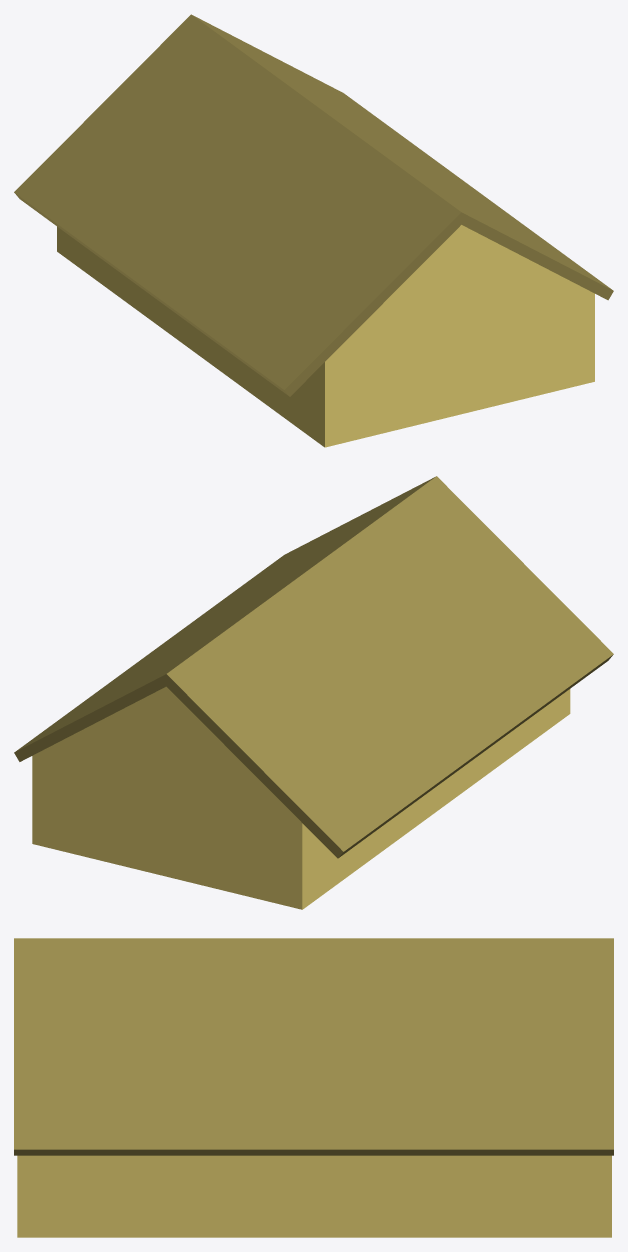
The model's file is result.glb.
3 views of the same model, one above another, from view 1: azimuth 30°, elevation 25°; view 2: azimuth 150°, elevation 25°; view 3: azimuth 270°, elevation 25° (orthographic). The views are drawn at different scales.
Parts seen in each view (by area): view 1: 9945c3a0-05b9-4f45-a9d6-b83e67051d95__undefined (×2), d8979166-a9b7-4e8d-b1c5-08e5b6ae2c49__undefined; view 2: 9945c3a0-05b9-4f45-a9d6-b83e67051d95__undefined (×2), d8979166-a9b7-4e8d-b1c5-08e5b6ae2c49__undefined; view 3: 9945c3a0-05b9-4f45-a9d6-b83e67051d95__undefined, d8979166-a9b7-4e8d-b1c5-08e5b6ae2c49__undefined.
Part boxes in pixels (x1,y1,x2,y2): 9945c3a0-05b9-4f45-a9d6-b83e67051d95__undefined (×2): (14, 14, 613, 396); d8979166-a9b7-4e8d-b1c5-08e5b6ae2c49__undefined: (57, 225, 594, 447); 9945c3a0-05b9-4f45-a9d6-b83e67051d95__undefined (×2): (14, 476, 613, 858); d8979166-a9b7-4e8d-b1c5-08e5b6ae2c49__undefined: (32, 686, 570, 909); 9945c3a0-05b9-4f45-a9d6-b83e67051d95__undefined: (14, 938, 613, 1155); d8979166-a9b7-4e8d-b1c5-08e5b6ae2c49__undefined: (17, 1155, 611, 1237).
Bounding box in the file's own units: 852 × 503 × 1211.
